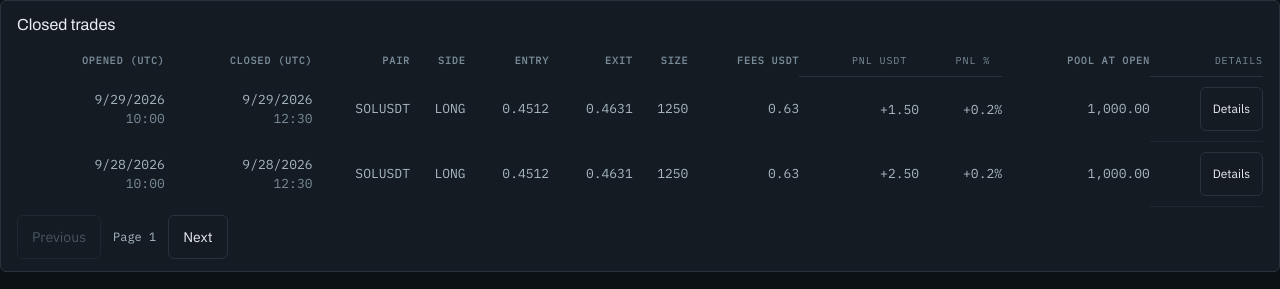
Scenario: TradesTable › disables Previous on the first page and Next on the last, where the cursor is null
The image size is (1280, 289).
Expected: the table is shown, [17,45,1263,207]
Expected: the button "Previous" is disabled, [17,215,101,259]
Step 1. Click the button "Next" → (198, 237), box [168,215,228,259]
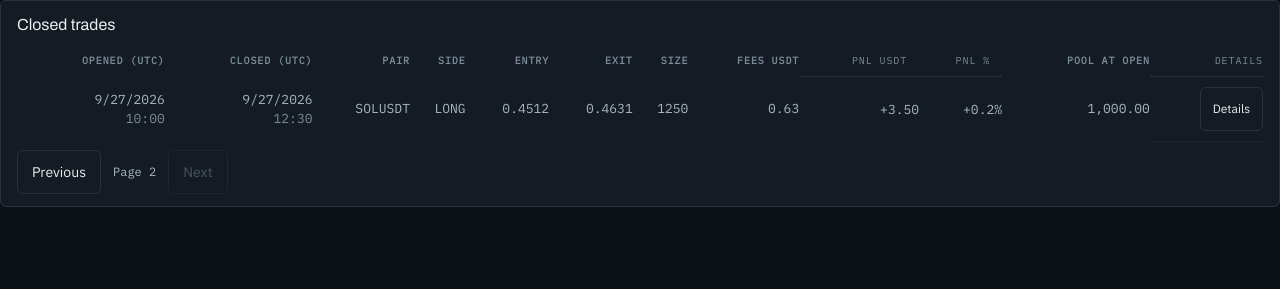
Now the button "Next" is disabled, box [168,150,228,194]
Now the button "Previous" is enabled, box [17,150,101,194]
